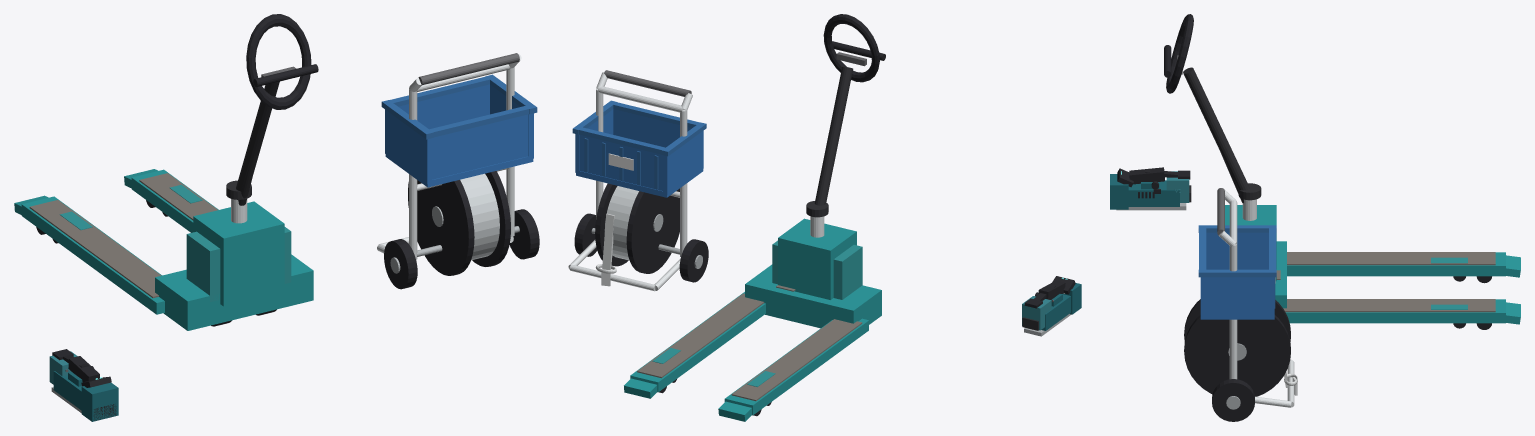
File: warehouse_set.glb
3 views of the same model, side by side, from view 1: azimuth 30°, elevation 25°; view 2: azimuth 150°, elevation 25°; view 3: azimuth 270°, elevation 25° (orthographic). The views are drawn at different scales.
Visible parts, largest first — view 1: PumpBody, Chassis, CrateBack, ReelRim, ForkTopWorn, Fork, HandleLoop, CrateFront, StrapRoll, CrateLeft, PumpSide, ForkTopWorn.001 (+18 smaller); view 2: PumpBody, Chassis, ReelRim, ForkTopWorn, ForkTopWorn.001, CrateFront, Fork, Fork.001, CrateBack, TillerArm, CrateLeft, HandleLoop (+19 smaller); view 3: ReelRim.001, CrateRight, Fork, Fork.001, ForkTopWorn.001, ForkTopWorn, CrateLeft, TillerArm, Wheel.001, HandleLoop, LowerBody, PumpBody (+8 smaller).
Part boxes in pixels (x1=…): PumpBody: x1=193, y1=201, x2=284, y2=306; Chassis: x1=155, y1=254, x2=313, y2=330; CrateBack: x1=432, y1=114, x2=528, y2=179; ReelRim: x1=408, y1=180, x2=474, y2=275; ForkTopWorn: x1=29, y1=200, x2=161, y2=298; Fork: x1=21, y1=196, x2=164, y2=314; HandleLoop: x1=246, y1=14, x2=311, y2=109; CrateFront: x1=398, y1=84, x2=489, y2=129; StrapRoll: x1=460, y1=173, x2=499, y2=260; CrateLeft: x1=385, y1=109, x2=432, y2=184; PumpSide: x1=186, y1=231, x2=220, y2=302; ForkTopWorn.001: x1=139, y1=173, x2=217, y2=220; PumpBody: x1=778, y1=218, x2=856, y2=299; Chassis: x1=745, y1=264, x2=881, y2=328; ReelRim: x1=626, y1=188, x2=679, y2=273; ForkTopWorn: x1=731, y1=319, x2=862, y2=401; ForkTopWorn.001: x1=637, y1=293, x2=764, y2=378; CrateFront: x1=580, y1=135, x2=662, y2=190; Fork: x1=724, y1=318, x2=868, y2=415; Fork.001: x1=630, y1=292, x2=765, y2=392; CrateBack: x1=613, y1=109, x2=691, y2=147; TillerArm: x1=814, y1=66, x2=853, y2=205; CrateLeft: x1=663, y1=131, x2=703, y2=194; HandleLoop: x1=823, y1=14, x2=879, y2=82; ReelRim.001: x1=1184, y1=315, x2=1290, y2=396; CrateRight: x1=1200, y1=277, x2=1274, y2=316; Fork: x1=1287, y1=252, x2=1505, y2=276; Fork.001: x1=1285, y1=299, x2=1505, y2=323; ForkTopWorn.001: x1=1283, y1=299, x2=1495, y2=312; ForkTopWorn: x1=1287, y1=252, x2=1495, y2=265; CrateLeft: x1=1206, y1=232, x2=1268, y2=269; TillerArm: x1=1183, y1=67, x2=1249, y2=190; Wheel.001: x1=1212, y1=379, x2=1254, y2=421; HandleLoop: x1=1166, y1=14, x2=1193, y2=93; LowerBody: x1=1128, y1=180, x2=1179, y2=206; PumpBody: x1=1225, y1=205, x2=1276, y2=281.
Size of the model in its own units: 2.5 by 1.54 by 2.
